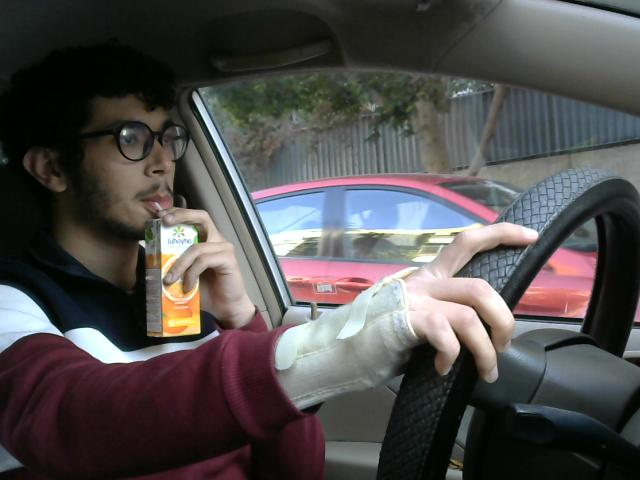Drinking: (26, 92, 203, 336)
